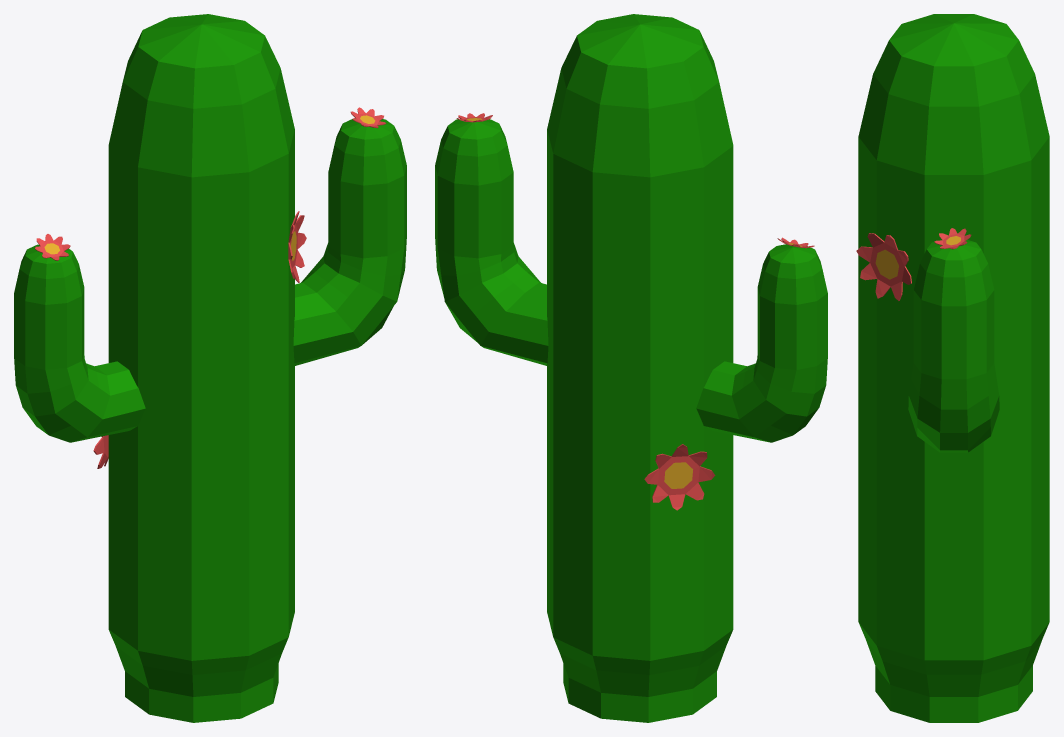
File: cactus.fbx
3 views of the same model, side by side, from view 1: azimuth 30°, elevation 25°; view 2: azimuth 150°, elevation 25°; view 3: azimuth 270°, elevation 25° (orthographic).
Visible parts, largest first — view 1: Cylinder, Cylinder.003; view 2: Cylinder, Cylinder.004; view 3: Cylinder, Cylinder.003, Cylinder.001.
Part boxes in pixels (x1,y1,x2,y2): Cylinder: [14, 14, 406, 722]; Cylinder.003: [288, 211, 306, 282]; Cylinder: [435, 14, 827, 722]; Cylinder.004: [644, 444, 715, 510]; Cylinder: [858, 14, 1049, 722]; Cylinder.003: [856, 233, 911, 300]; Cylinder.001: [934, 228, 971, 249].
Size of the model in its own units: 462 by 771 by 202.
